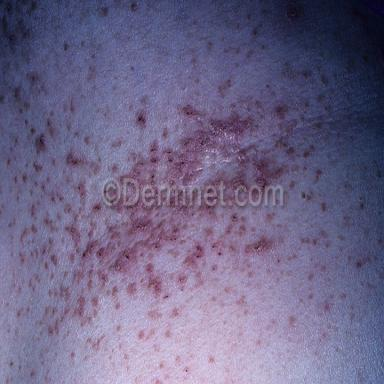Darier_s-Disease: (0, 0, 374, 384)
